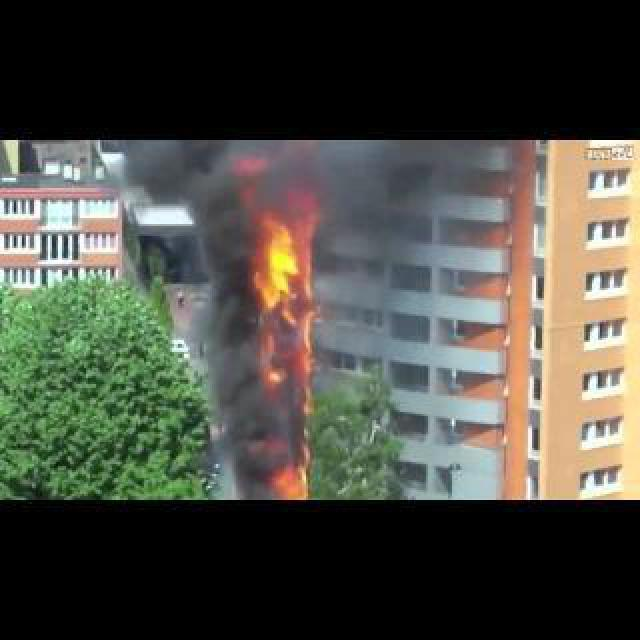Fire: (258, 190, 318, 384), (276, 448, 316, 498)
Smoke: (192, 140, 272, 498), (316, 140, 468, 304), (212, 374, 330, 462), (102, 140, 190, 212)
